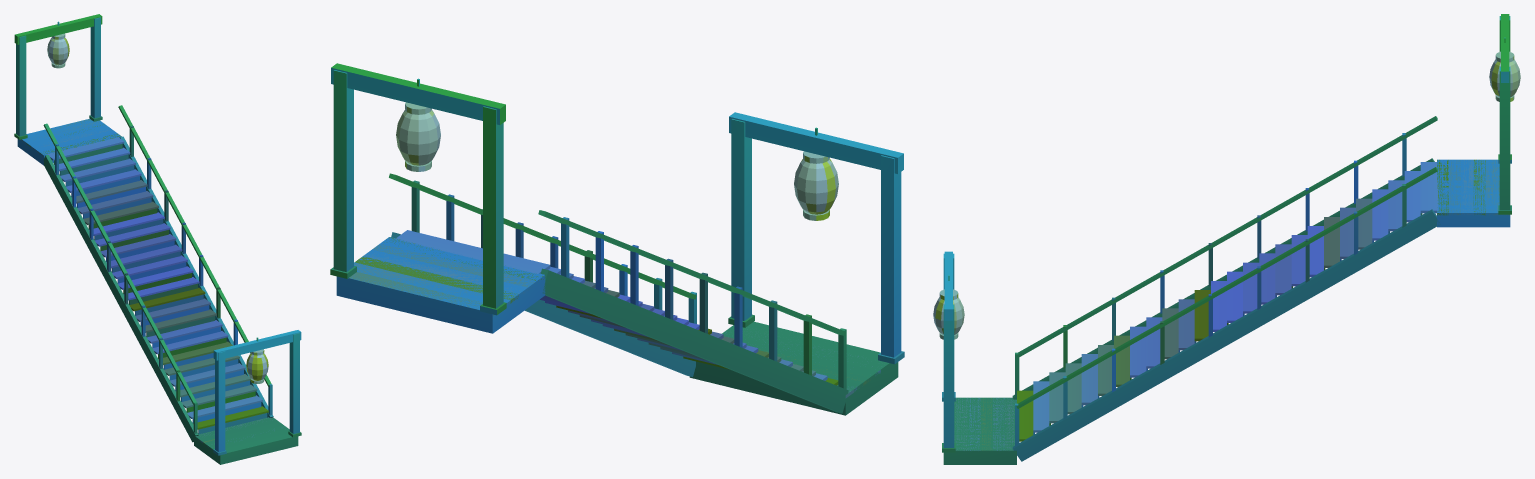
File: B_stair_a.glb
3 renders of one model, left to right at view 1: azimuth 30°, elevation 25°; view 2: azimuth 150°, elevation 25°; view 3: azimuth 270°, elevation 25°, orthographic. The views are drawn at different scales.
Visible parts, largest first — view 1: B_stair_a; view 2: B_stair_a; view 3: B_stair_a.
Part boxes in pixels (x1,y1,x2,y2): B_stair_a: (14,14,301,464); B_stair_a: (330,63,904,415); B_stair_a: (933,14,1520,464).
Bounding box in the file's own units: 2.6 × 8.42 × 11.2.
